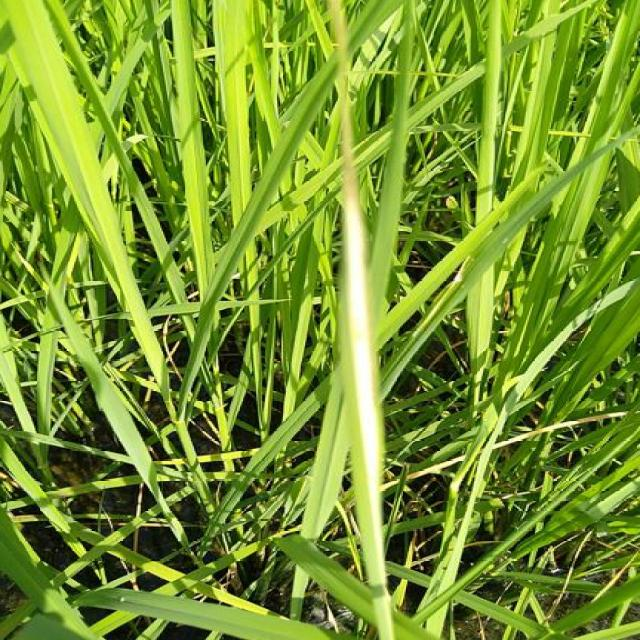Leaf Blight: (326, 0, 394, 640)
